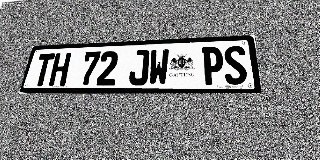2: (96, 51, 119, 86)
7: (78, 51, 101, 86)
H: (48, 53, 72, 86)
J: (128, 50, 150, 85)
P: (202, 47, 224, 85)
S: (223, 46, 248, 85)
T: (32, 53, 55, 86)
W: (148, 49, 169, 85)
